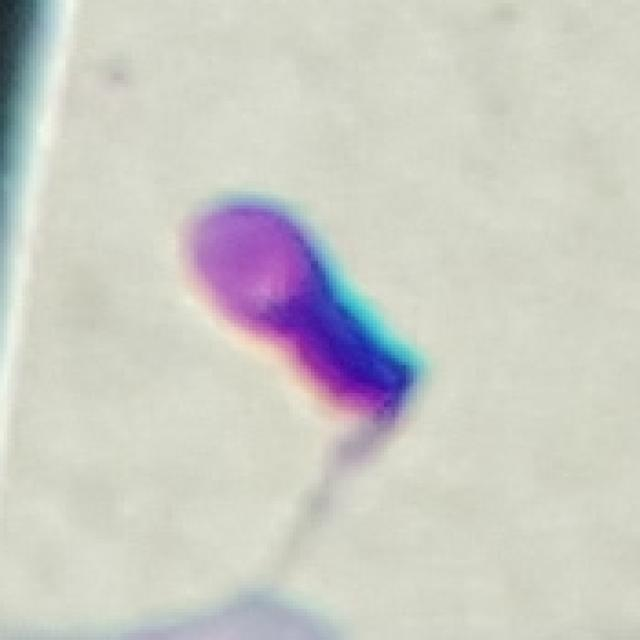abnormal sperm: (166, 166, 396, 612)
